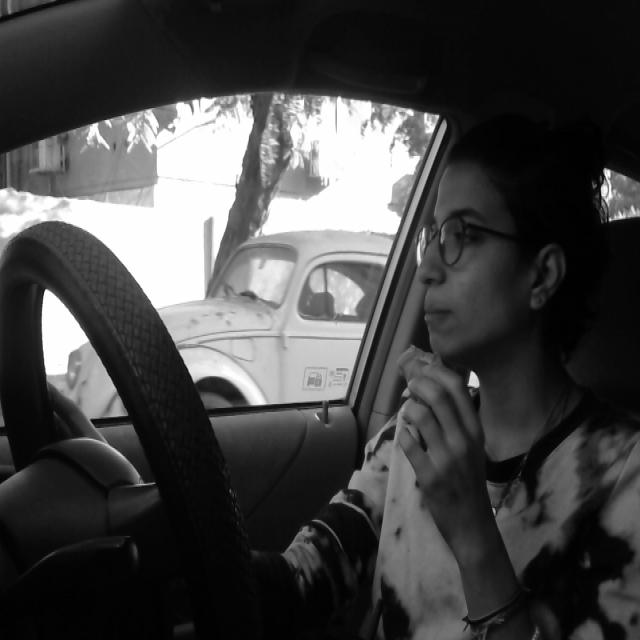eating: (388, 332, 458, 408)
